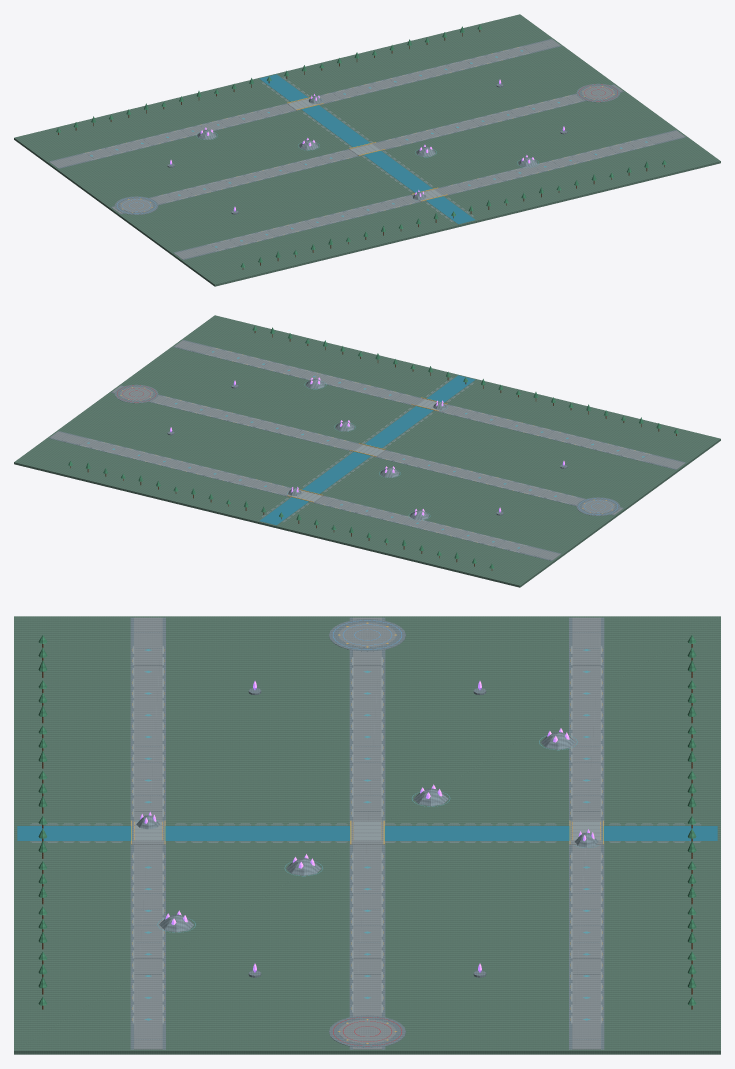
The model's file is genesis_rift_detail_review.glb.
The picture shows the model from 3 angles, top to bottom: view 1: azimuth 30°, elevation 25°; view 2: azimuth 150°, elevation 25°; view 3: azimuth 270°, elevation 25°; orthographic projection. The views are drawn at different scales.
Visible parts, largest first — view 1: GenesisRift_terrain, GenesisRift_lanes, GenesisRift_detail_inlays, GenesisRift_cover_and_vegetation; view 2: GenesisRift_terrain, GenesisRift_lanes, GenesisRift_detail_inlays, GenesisRift_cover_and_vegetation; view 3: GenesisRift_terrain, GenesisRift_lanes, GenesisRift_detail_inlays, GenesisRift_cover_and_vegetation.
Boxes of the visible parts, x1,y1,x2,y2 form: GenesisRift_terrain: (14,14,720,286); GenesisRift_lanes: (49,39,685,259); GenesisRift_detail_inlays: (83,46,654,251); GenesisRift_cover_and_vegetation: (56,25,666,269); GenesisRift_terrain: (14,315,720,587); GenesisRift_lanes: (49,340,685,560); GenesisRift_detail_inlays: (80,347,651,552); GenesisRift_cover_and_vegetation: (68,326,678,570); GenesisRift_terrain: (14,616,720,1054); GenesisRift_lanes: (17,617,717,1049); GenesisRift_detail_inlays: (30,620,701,1046); GenesisRift_cover_and_vegetation: (38,635,696,1009).
Bounding box in the file's own units: 320 × 7.33 × 220.
14 materials, 5 textured.
